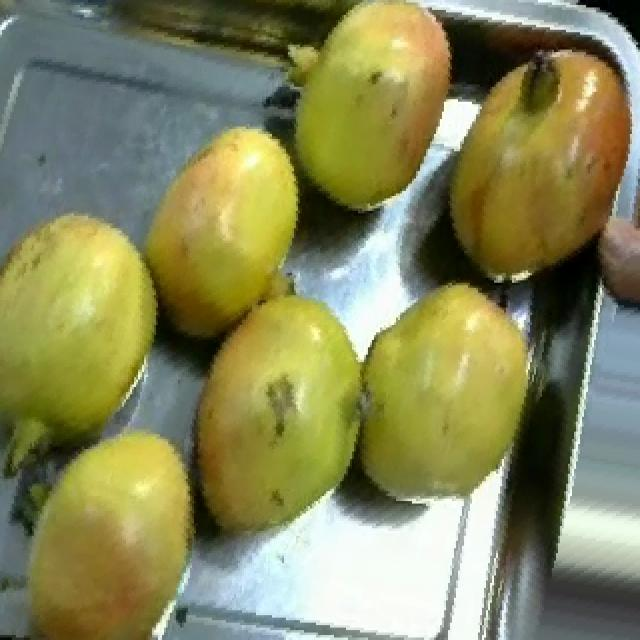fruit: (168, 258, 396, 533), (330, 253, 574, 509), (116, 102, 340, 364), (422, 22, 640, 286), (258, 0, 486, 251)
